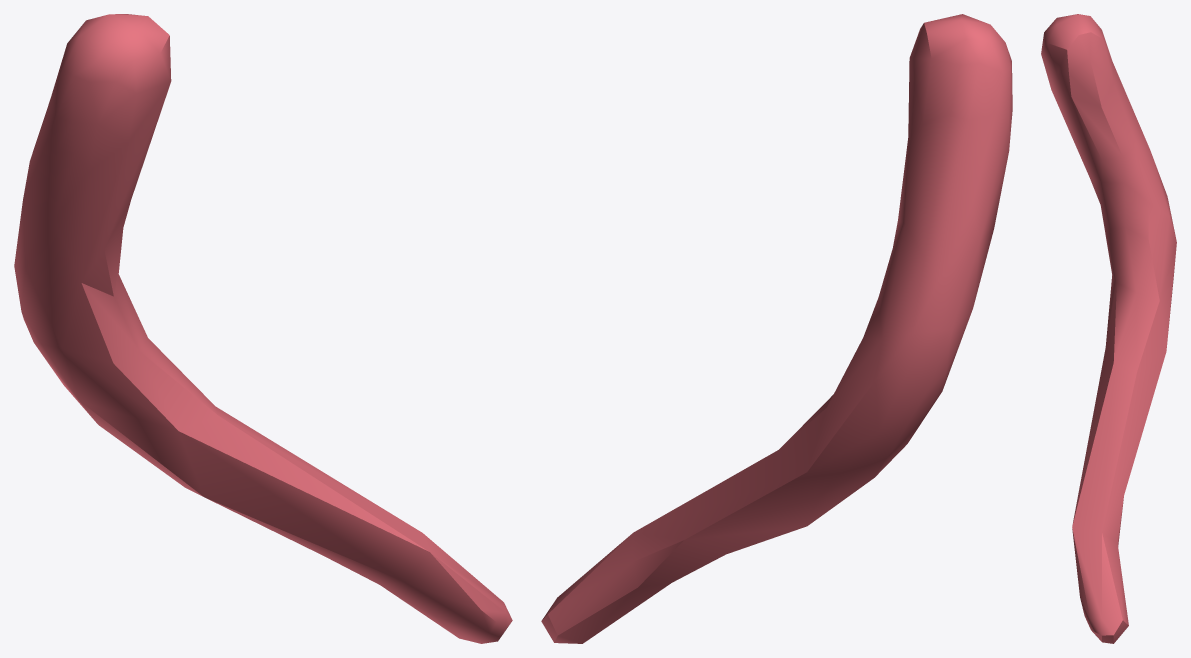
File: fma3818_fj2675.glb
3 views of the same model, side by side, from view 1: azimuth 30°, elevation 25°; view 2: azimuth 150°, elevation 25°; view 3: azimuth 270°, elevation 25° (orthographic). The views are drawn at different scales.
Parts seen in each view (by area): view 1: FMA3818_FJ2675; view 2: FMA3818_FJ2675; view 3: FMA3818_FJ2675.
Part boxes in pixels (x1=…): FMA3818_FJ2675: x1=14, y1=14, x2=512, y2=643; FMA3818_FJ2675: x1=541, y1=14, x2=1012, y2=643; FMA3818_FJ2675: x1=1041, y1=14, x2=1176, y2=643.
Bounding box in the file's own units: 0.00629 × 0.0094 × 0.00233.
